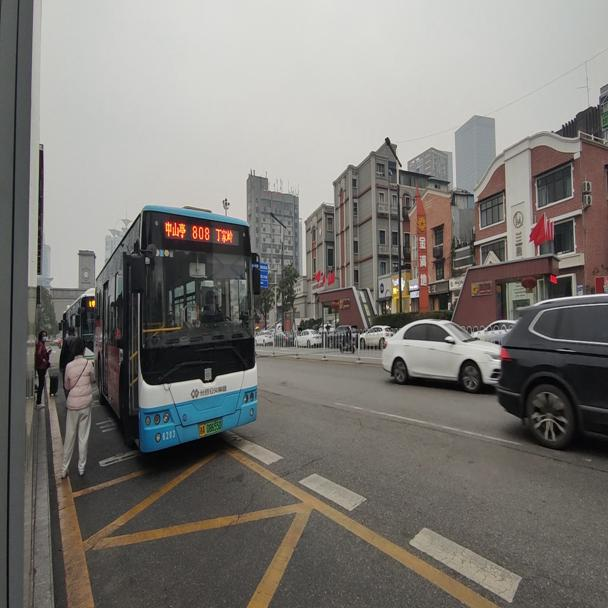bus: (94, 202, 263, 457), (61, 288, 96, 362)
screen: (188, 222, 213, 243)
